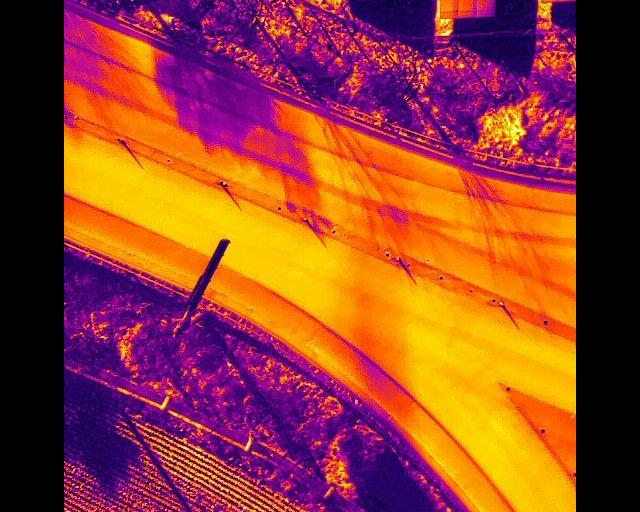No-Anomaly: (458, 0, 478, 18), (439, 0, 458, 18), (479, 0, 496, 16)
